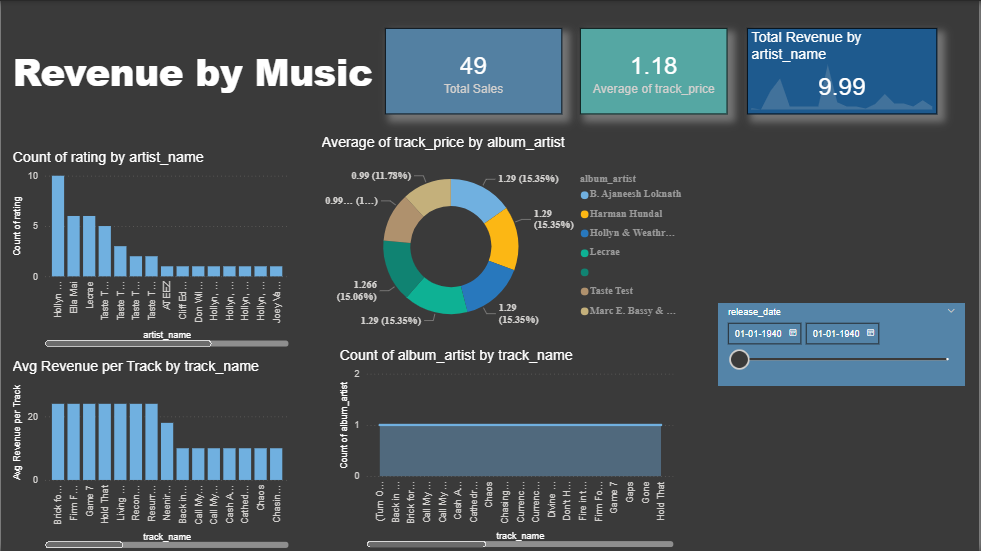

What the dashboard file says about the page in this screenshot:
{"tool":"powerbi","page":{"name":"Page 2","canvas":[1280,720],"ordinal":1},"visuals":[{"type":"textbox","box":[10.1,53.8,1269.9,107.5],"z":0},{"type":"columnChart","fields":{"Y":["CountNonNull(itunes_music_dataset.rating)"],"Category":["itunes_music_dataset.artist_name"]},"box":[10.1,193.2,371.2,263.7],"z":1000},{"type":"clusteredColumnChart","fields":{"Y":["itunes_music_dataset.Avg Revenue per Track"],"Category":["itunes_music_dataset.track_name"]},"box":[10.1,467,371.2,253.6],"z":2000},{"type":"areaChart","fields":{"Y":["CountNonNull(itunes_music_dataset.album_artist)"],"Category":["itunes_music_dataset.track_name"]},"box":[438.4,453.5,446.8,267.1],"z":3000},{"type":"donutChart","fields":{"Y":["Avg(itunes_music_dataset.track_price)"],"Category":["itunes_music_dataset.album_artist"]},"box":[414.9,174.7,493.9,273.8],"z":4000},{"type":"card","fields":{"Values":["itunes_music_dataset.Total Sales"]},"box":[502.3,35.3,231.8,112.5],"z":6000},{"type":"kpi","fields":{"Indicator":["itunes_music_dataset.Total Revenue"],"TrendLine":["itunes_music_dataset.artist_name"]},"box":[976,35.3,248.6,112.5],"z":7000},{"type":"card","fields":{"Values":["Avg(itunes_music_dataset.track_price)"]},"box":[757.6,35.3,193.2,112.5],"z":8000},{"type":"slicer","fields":{"Values":["itunes_music_dataset.release_date"]},"box":[939,394.8,322.5,107.5],"z":9000}]}

Visuals, with their boxes in screenshot pixels (x1, y1, x2, y2), scaled from the page's 1280x720 canvas onto the 981x551 screenshot:
textbox: bbox=[8, 41, 980, 123]
columnChart - CountNonNull(itunes_music_dataset.rating) x itunes_music_dataset.artist_name: bbox=[8, 148, 292, 350]
clusteredColumnChart - itunes_music_dataset.Avg Revenue per Track x itunes_music_dataset.track_name: bbox=[8, 357, 292, 550]
areaChart - CountNonNull(itunes_music_dataset.album_artist) x itunes_music_dataset.track_name: bbox=[336, 347, 678, 550]
donutChart - Avg(itunes_music_dataset.track_price) x itunes_music_dataset.album_artist: bbox=[318, 134, 697, 343]
card - itunes_music_dataset.Total Sales: bbox=[385, 27, 563, 113]
kpi - itunes_music_dataset.Total Revenue x itunes_music_dataset.artist_name: bbox=[748, 27, 939, 113]
card - Avg(itunes_music_dataset.track_price): bbox=[581, 27, 729, 113]
slicer - itunes_music_dataset.release_date: bbox=[720, 302, 967, 384]
